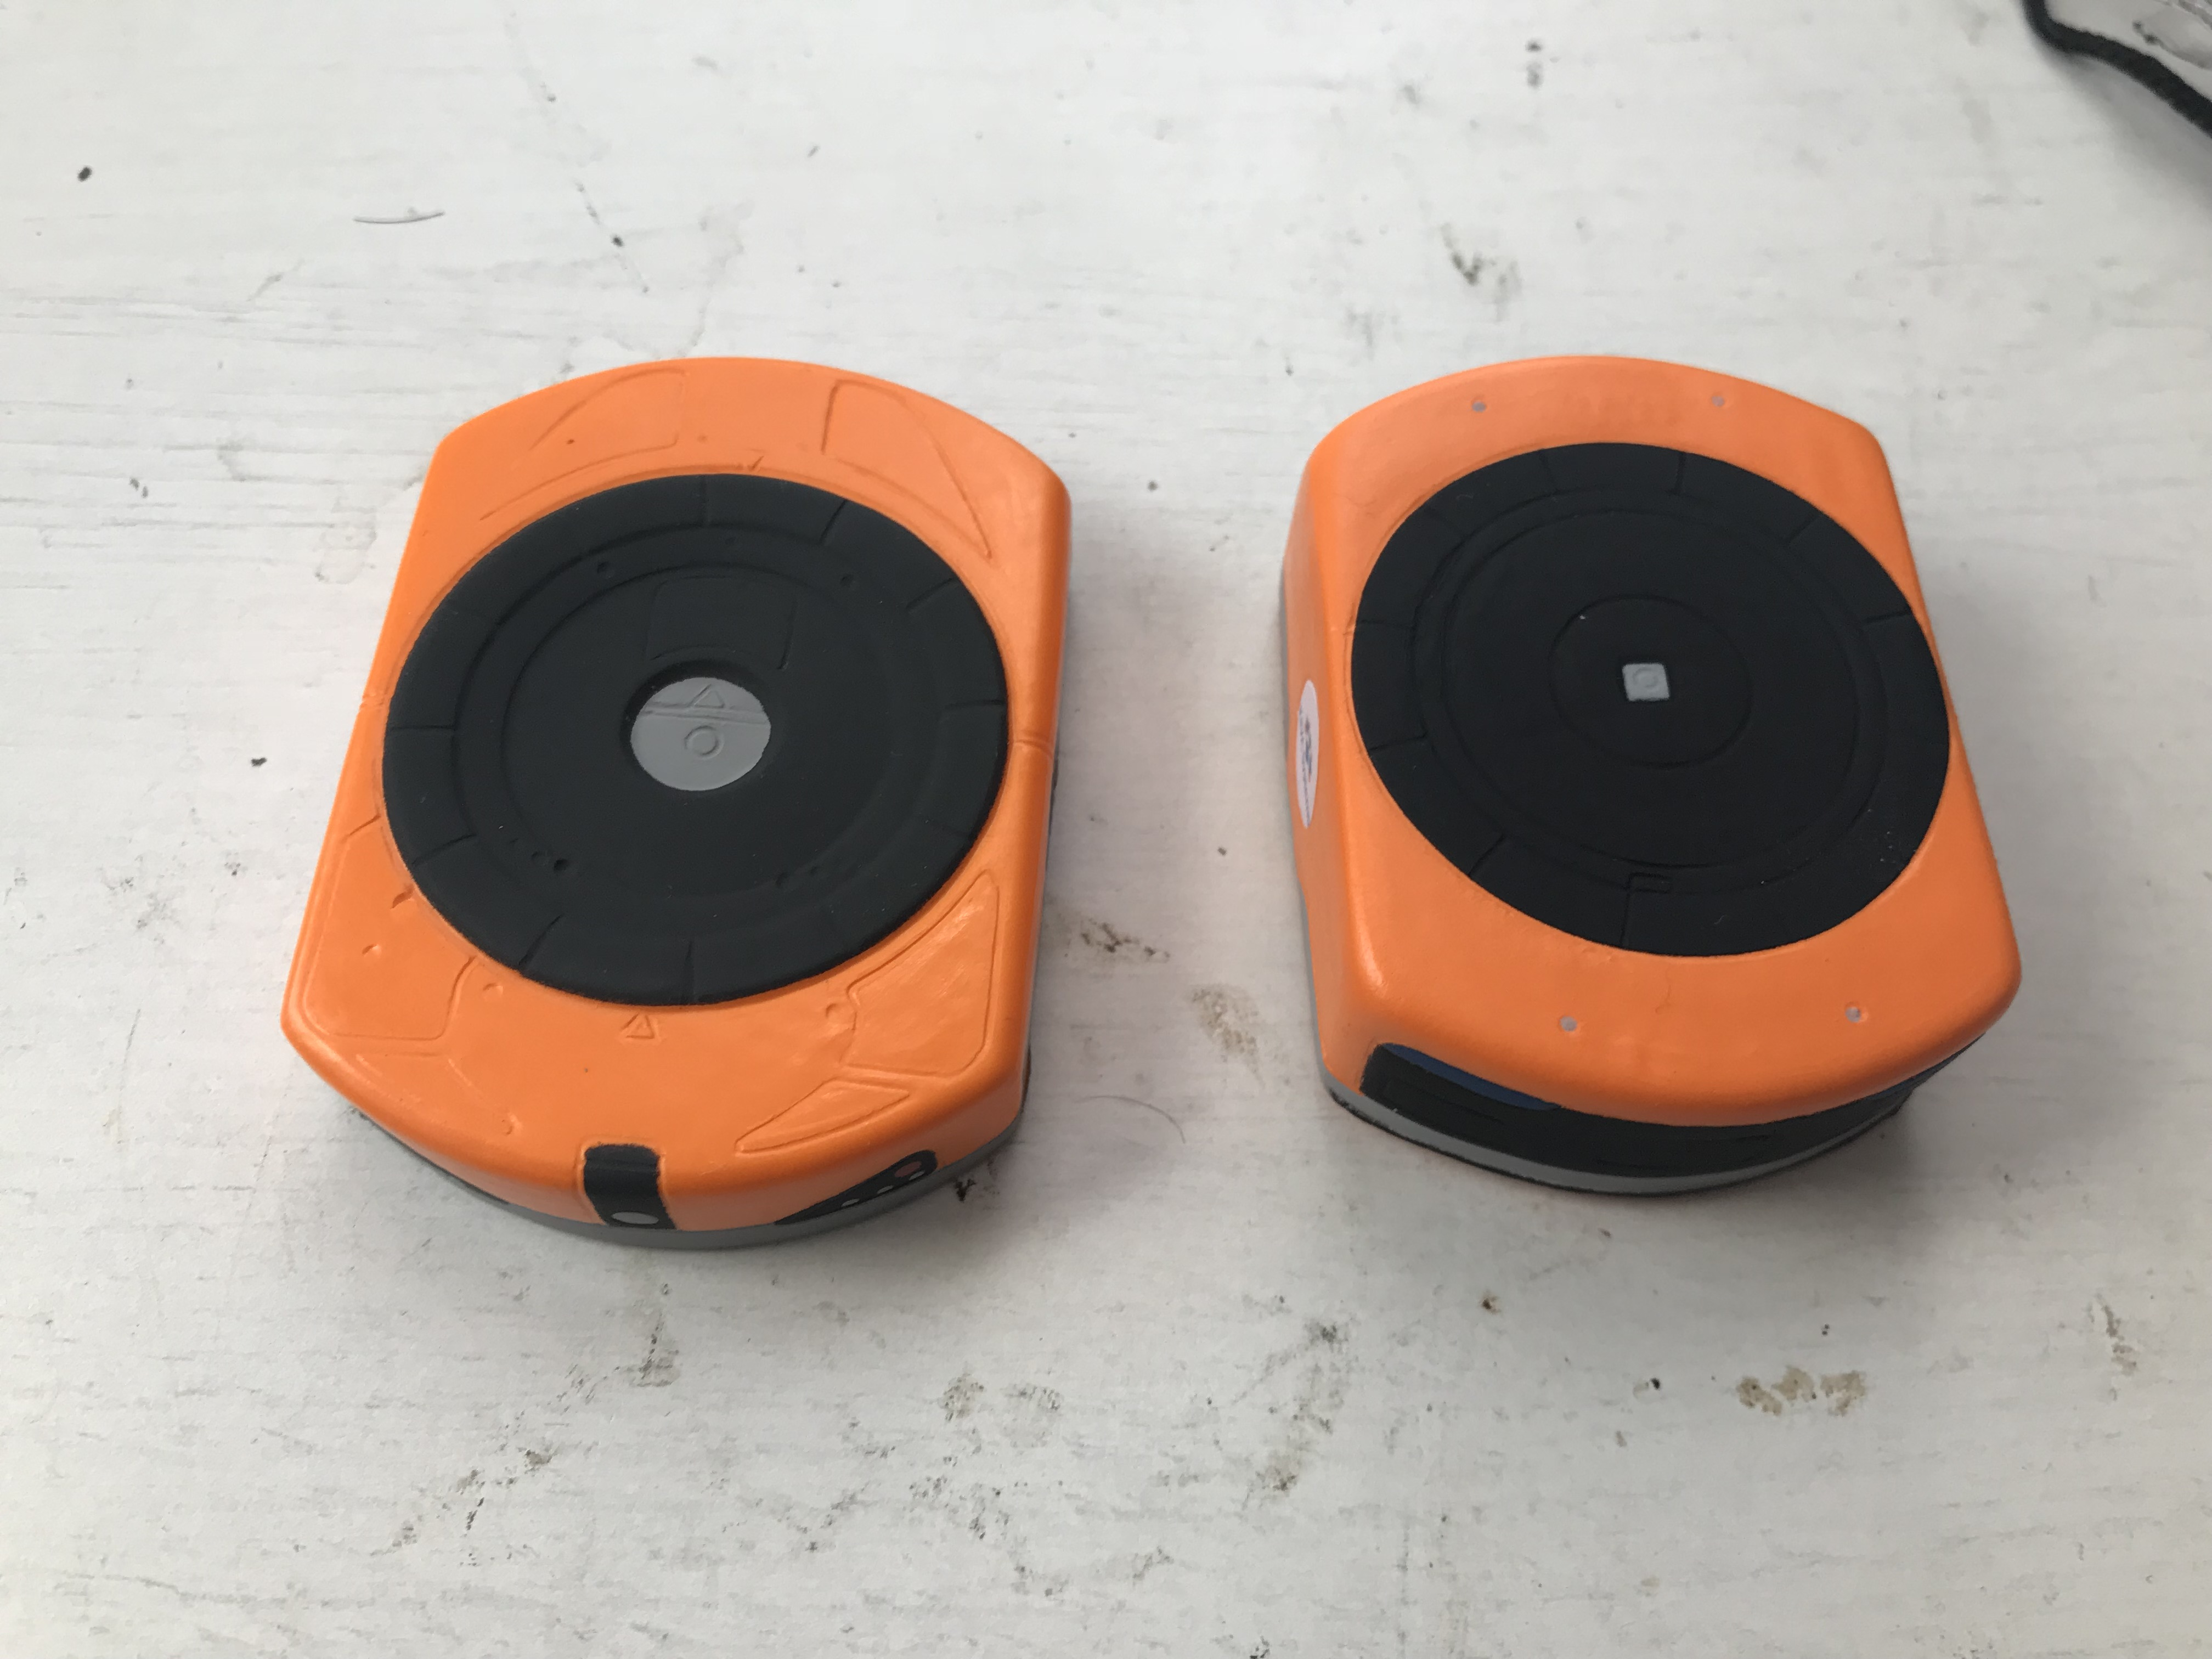amazon_bot: (258, 329, 1092, 1279), (1240, 336, 2060, 1222)
